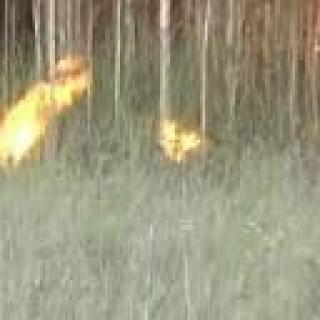fire: (0, 62, 91, 161), (158, 116, 207, 164)
